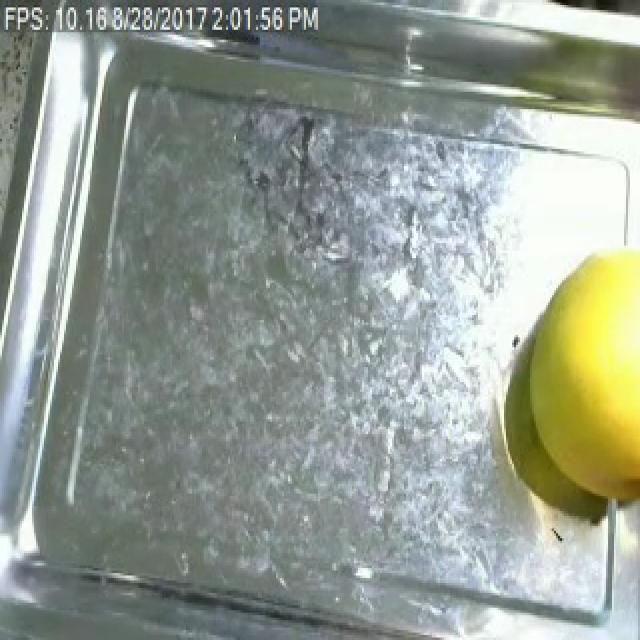fruit: (506, 216, 640, 526)
